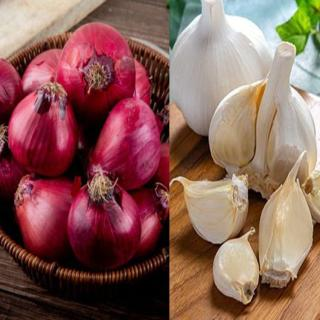Bawang Merah: (1, 22, 170, 271)
